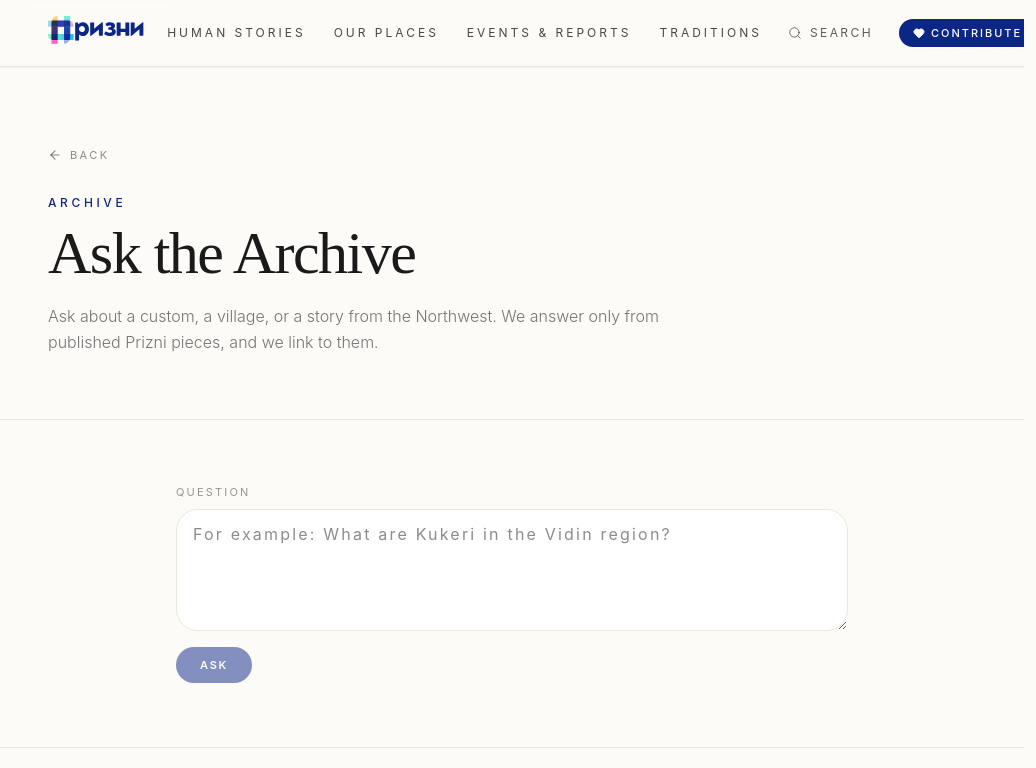
ArchivePage › shows a refusal when nothing matches
The image size is (1036, 768).
Type "What is the capital of France?" into the text box with placeholder "For example: What are Kukeri in the Vidin region?" at (512, 570), box [176,509,848,631]
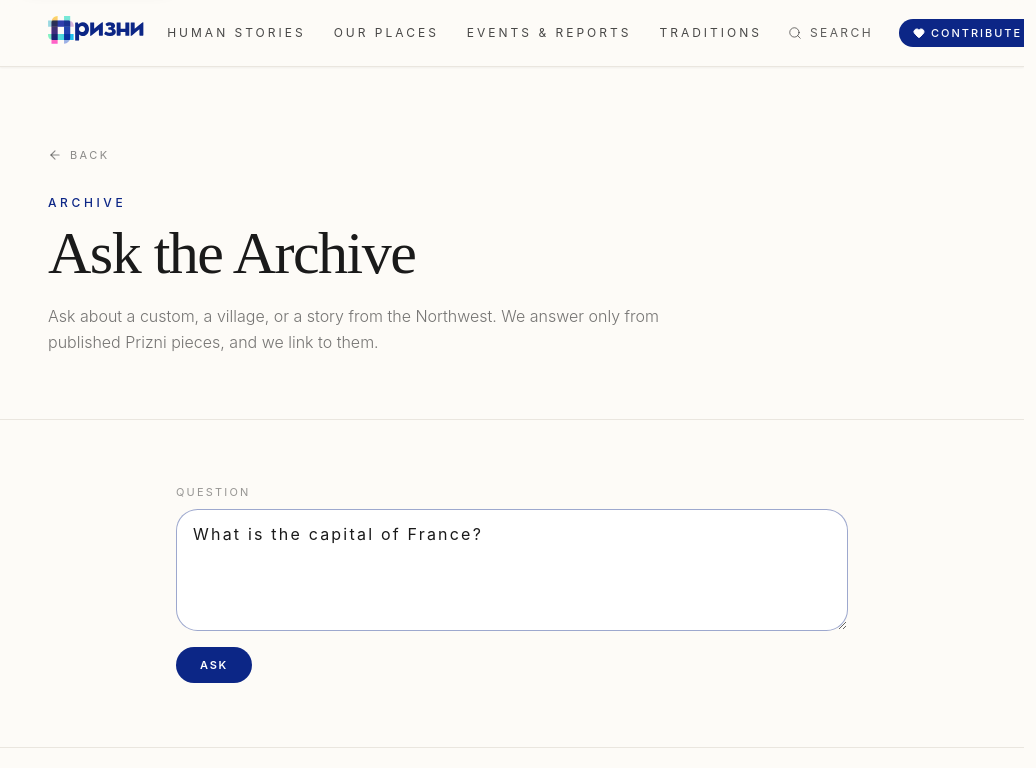
Click the button "Ask" at (214, 665), box [176,647,252,683]
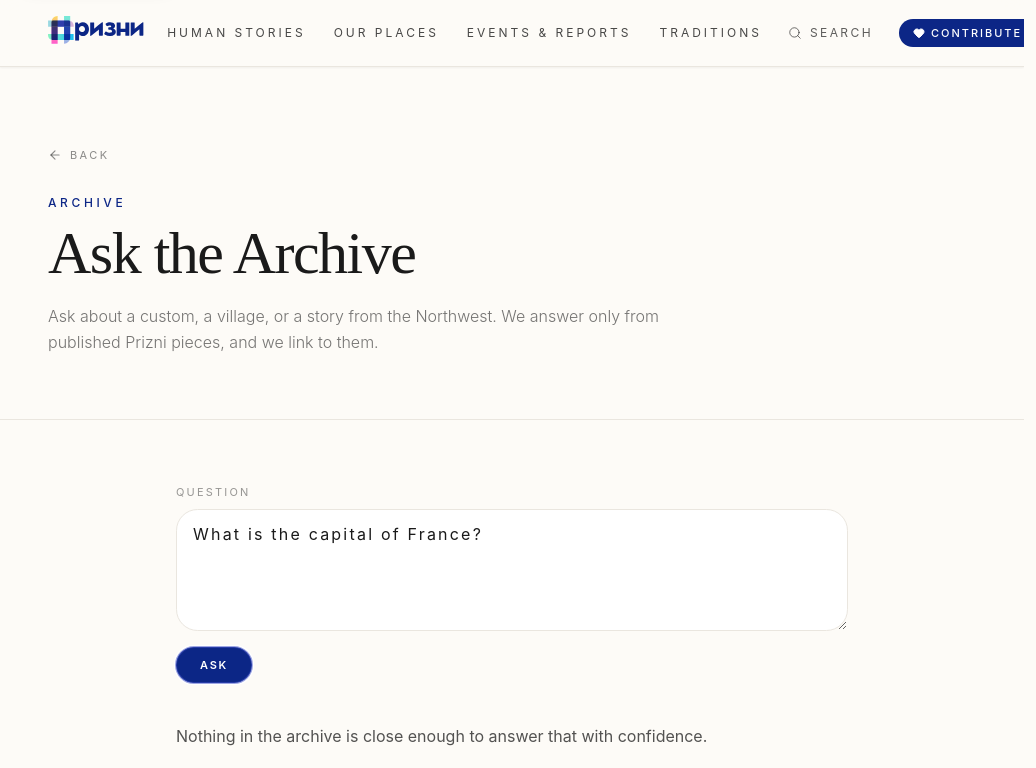
Check: the text "Nothing in the archive is close enough" is shown, box [176,726,707,746]
